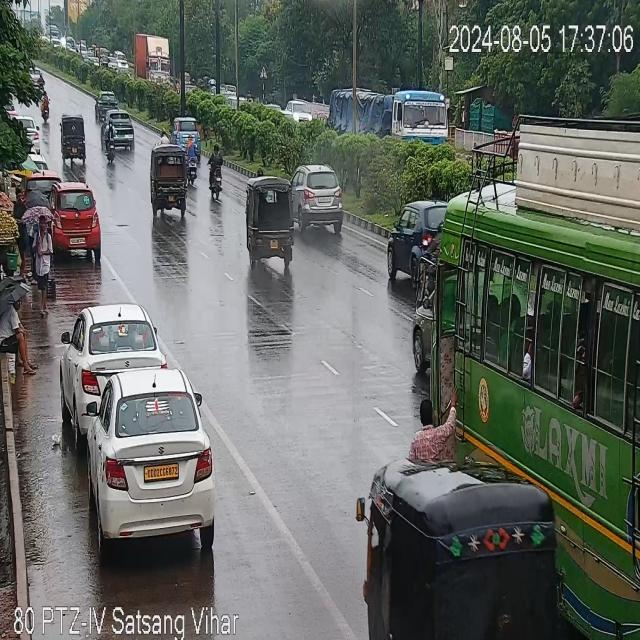2-wheelers: (206, 146, 226, 202), (184, 138, 200, 182), (105, 118, 116, 160), (40, 90, 50, 120)
auto: (357, 442, 557, 640), (245, 182, 298, 262), (152, 150, 192, 208), (59, 116, 88, 166)
bus: (438, 122, 640, 464), (135, 30, 173, 82)
car: (88, 368, 216, 546), (62, 302, 160, 422), (388, 202, 445, 294), (50, 187, 100, 257), (295, 167, 347, 234), (114, 108, 136, 150), (26, 170, 61, 196), (173, 114, 197, 142), (26, 116, 42, 152), (95, 90, 115, 118)
pedestrian: (1, 286, 38, 379), (414, 394, 462, 459), (32, 206, 54, 318)
truck: (339, 90, 455, 148)
